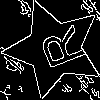R: (29, 24, 87, 75)
